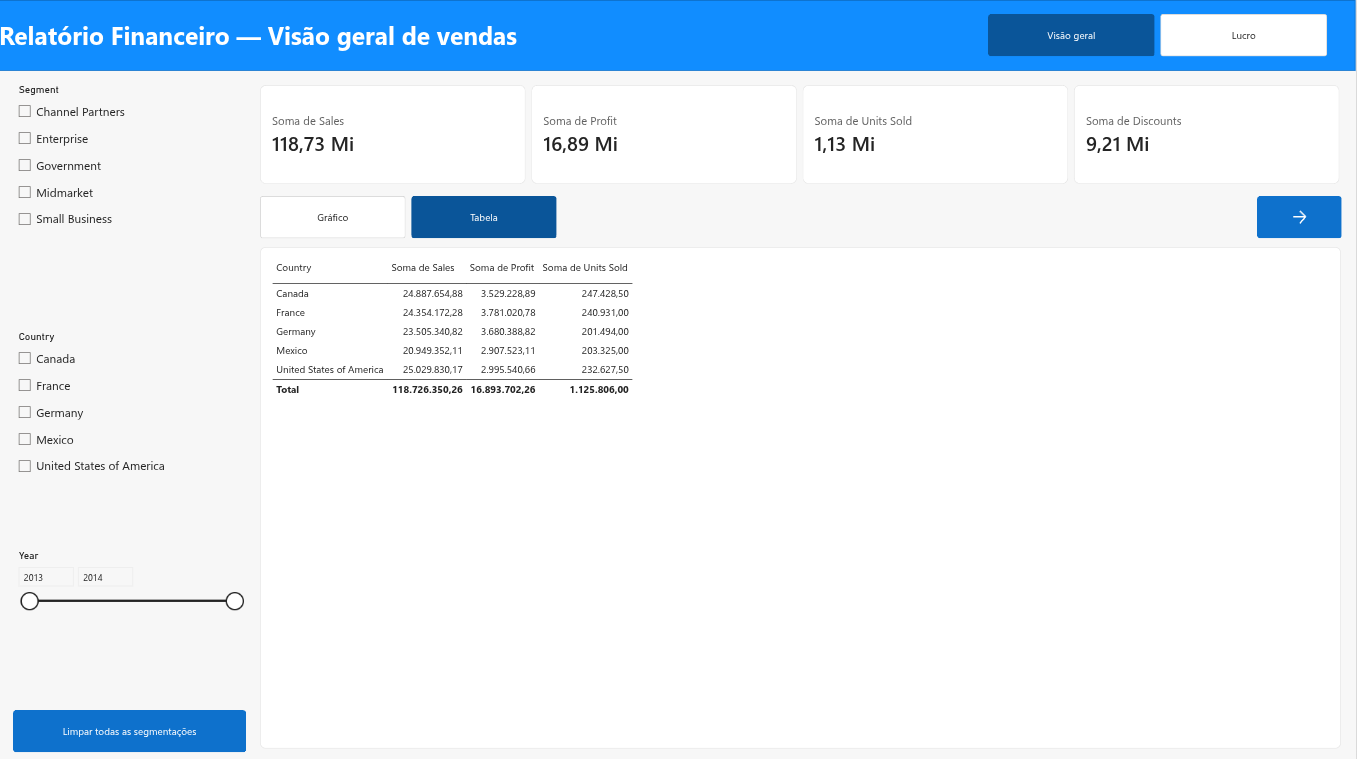

This screenshot's page, from the dashboard's own definition file:
{"tool":"powerbi","page":{"name":"Visão geral","canvas":[1920,1080],"ordinal":0},"visuals":[{"type":"cardVisual","fields":{"Data":["Sum(financials. Sales)","Sum(financials.Profit)","Sum(financials.Units Sold)","Sum(financials.Discounts)"]},"box":[370,120,1530,140],"z":0},{"type":"slicer","fields":{"Values":["financials.Segment"]},"box":[20,120,330,330],"z":1000},{"type":"slicer","fields":{"Values":["financials.Country"]},"box":[20,470,330,300],"z":2000},{"type":"slicer","fields":{"Values":["financials.Year"]},"box":[20,780,330,200],"z":3000},{"type":"clusteredBarChart","fields":{"Category":["financials.Country"],"Y":["Sum(financials. Sales)"]},"box":[370,350,1530,710],"z":5000},{"type":"bookmarkNavigator","box":[370,278,420,60],"z":6000},{"type":"shape","box":[0,0,1920,100],"z":7000},{"type":"pageNavigator","box":[1400,20,480,60],"z":8000},{"type":"actionButton","box":[1780,278,120,60],"z":9000},{"type":"actionButton","box":[20,1005,330,60],"z":9001}]}

Visuals, with their boxes in screenshot pixels (x1, y1, x2, y2), scaled from the page's 1920x1080 canvas onto the 1357x759 screenshot:
cardVisual - Sum(financials. Sales) x Sum(financials.Profit): BBox(262, 84, 1343, 183)
slicer - financials.Segment: BBox(14, 84, 247, 316)
slicer - financials.Country: BBox(14, 330, 247, 541)
slicer - financials.Year: BBox(14, 548, 247, 689)
clusteredBarChart - financials.Country x Sum(financials. Sales): BBox(262, 246, 1343, 745)
bookmarkNavigator: BBox(262, 195, 558, 238)
shape: BBox(0, 0, 1356, 70)
pageNavigator: BBox(989, 14, 1329, 56)
actionButton: BBox(1258, 195, 1343, 238)
actionButton: BBox(14, 706, 247, 748)
